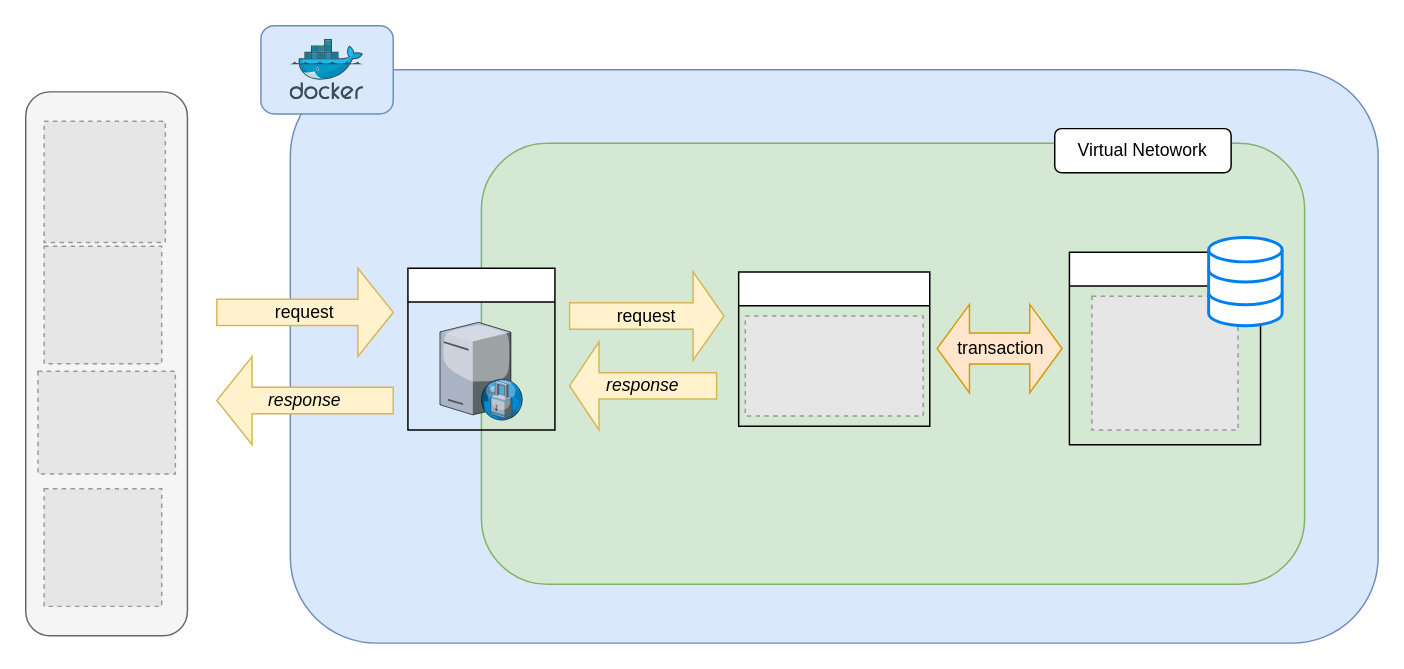
Image size: 1404x669. Some labels were removed from this diagram. Grey dashed boxes stand in for pictures. The shapes that lost their labels are listed below. From the top down, each one's box as (x1, y1, x2, y2) in pixels, then its label:
(406, 267, 555, 430): Proxy
(737, 270, 930, 426): API
(1068, 251, 1261, 445): DataBase
